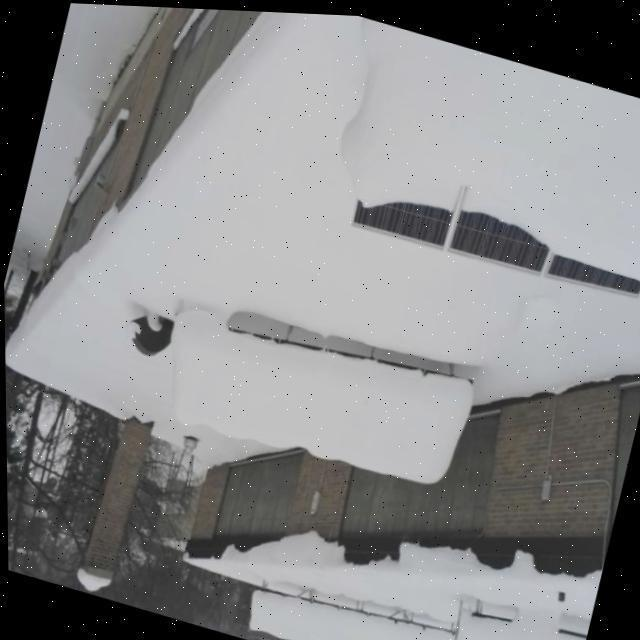Anomaly Solar Panel: (349, 23, 640, 303), (175, 319, 473, 482), (248, 588, 455, 640), (453, 610, 584, 640)
Snow: (355, 24, 640, 283), (174, 320, 473, 481), (248, 588, 454, 640), (453, 610, 584, 640)
